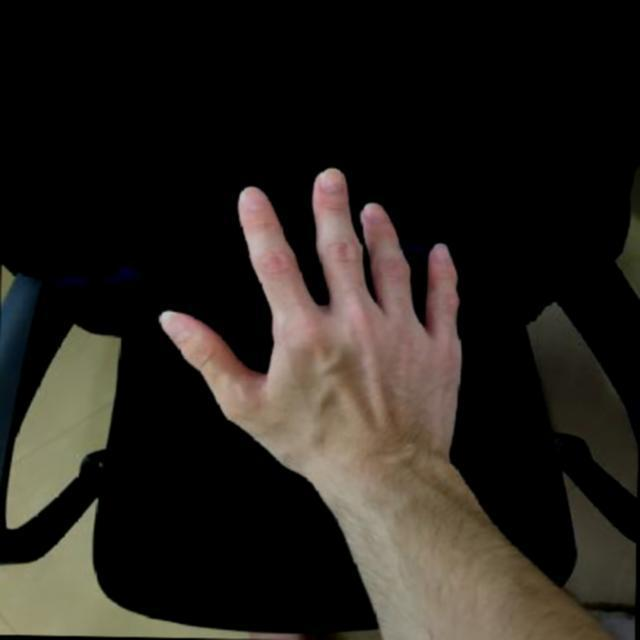hand: (145, 153, 478, 493)
